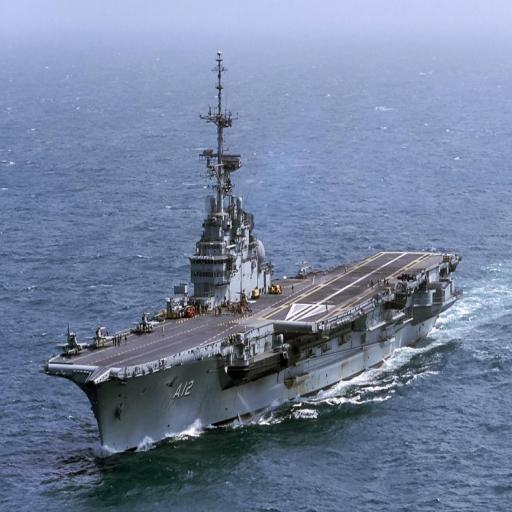Portanaves: (40, 47, 467, 464)
